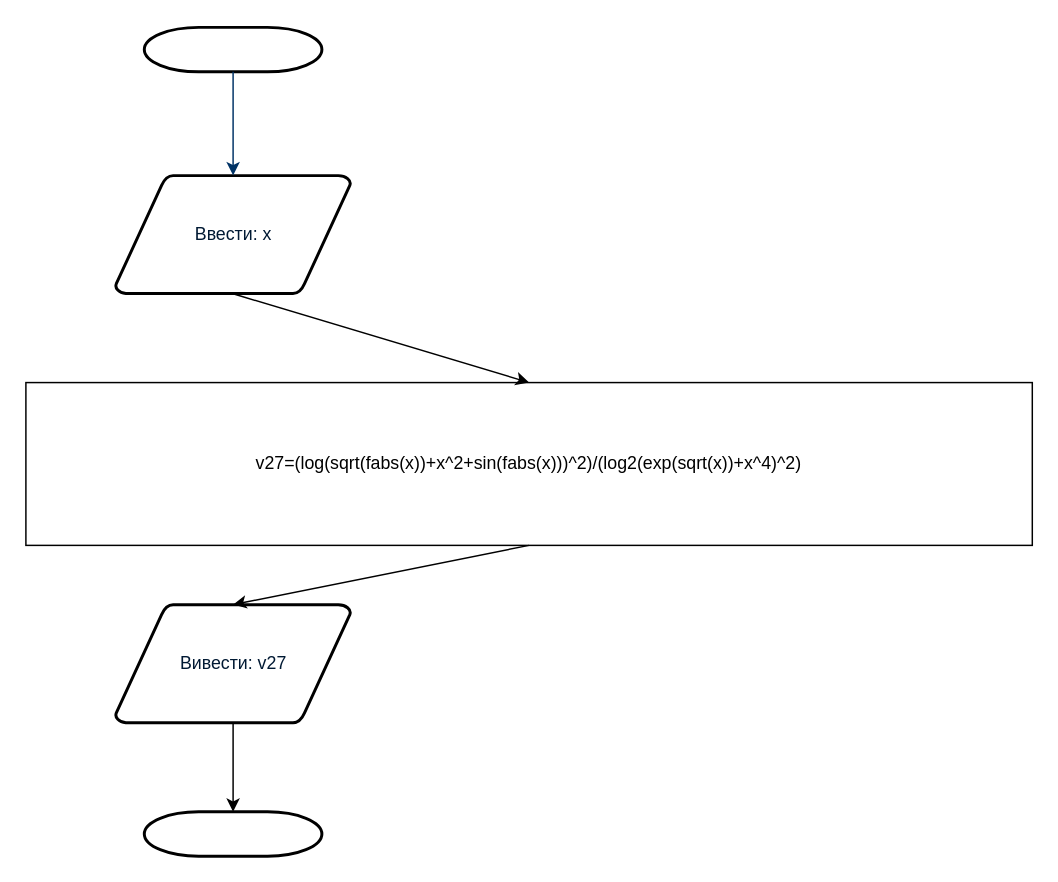
Image size: 1058x882. Some labels were removed from this diagram. Each missing label, with the box of its shape:
end: (142, 810, 323, 857)
start: (142, 25, 323, 73)
